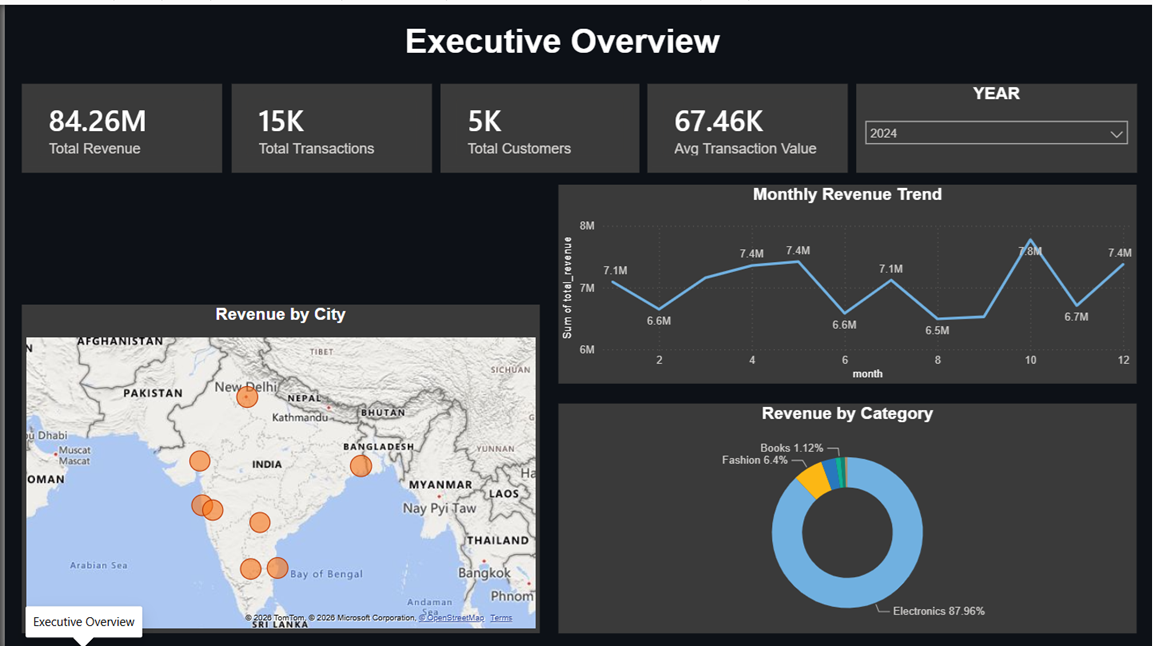

What the dashboard file says about the page in this screenshot:
{"tool":"powerbi","page":{"name":"Executive Overview","canvas":[1280,720],"ordinal":0},"visuals":[{"type":"cardVisual","fields":{"Data":["Sum(public vw_monthly_revenue.total_revenue)"]},"box":[19.3,88.1,223.2,98.9],"z":0},{"type":"cardVisual","fields":{"Data":["Sum(public vw_monthly_revenue.avg_transaction_value)"]},"box":[715.4,88.1,223.2,98.9],"z":1000},{"type":"cardVisual","fields":{"Data":["Sum(public vw_monthly_revenue.total_transactions)"]},"box":[252.1,88.1,223.2,98.9],"z":2000},{"type":"cardVisual","fields":{"Data":["Sum(public vw_city_revenue.total_customers)"]},"box":[485,88.1,222,98.9],"z":3000},{"type":"lineChart","title":"Monthly Revenue Trend","fields":{"Category":["public vw_monthly_revenue.month"],"Y":["Sum(public vw_monthly_revenue.total_revenue)"]},"box":[616.5,200.3,644.2,222],"z":4000},{"type":"donutChart","title":"Revenue by Category","fields":{"Category":["public vw_revenue_by_category.category"],"Y":["Sum(public vw_revenue_by_category.total_revenue)"]},"box":[616.5,444,644.2,255.8],"z":5000},{"type":"map","title":"Revenue by City","fields":{"Category":["public vw_city_revenue.city"],"Size":["Sum(public vw_city_revenue.total_revenue)"]},"box":[19.3,334.2,576.7,365.6],"z":6000},{"type":"textbox","box":[413.8,14.5,413.8,60.3],"z":7000},{"type":"slicer","title":"YEAR","fields":{"Values":["public dim_date.year"]},"box":[948.3,88.1,312.5,98.9],"z":8000}]}

Visuals, with their boxes in screenshot pixels (x1, y1, x2, y2), scaled from the page's 1280x720 canvas onto the 1160x648 screenshot:
cardVisual - Sum(public vw_monthly_revenue.total_revenue): detection(17, 79, 220, 168)
cardVisual - Sum(public vw_monthly_revenue.avg_transaction_value): detection(648, 79, 851, 168)
cardVisual - Sum(public vw_monthly_revenue.total_transactions): detection(228, 79, 431, 168)
cardVisual - Sum(public vw_city_revenue.total_customers): detection(440, 79, 641, 168)
"Monthly Revenue Trend" lineChart: detection(559, 180, 1143, 380)
"Revenue by Category" donutChart: detection(559, 400, 1143, 630)
"Revenue by City" map: detection(17, 301, 540, 630)
textbox: detection(375, 13, 750, 67)
"YEAR" slicer: detection(859, 79, 1143, 168)
